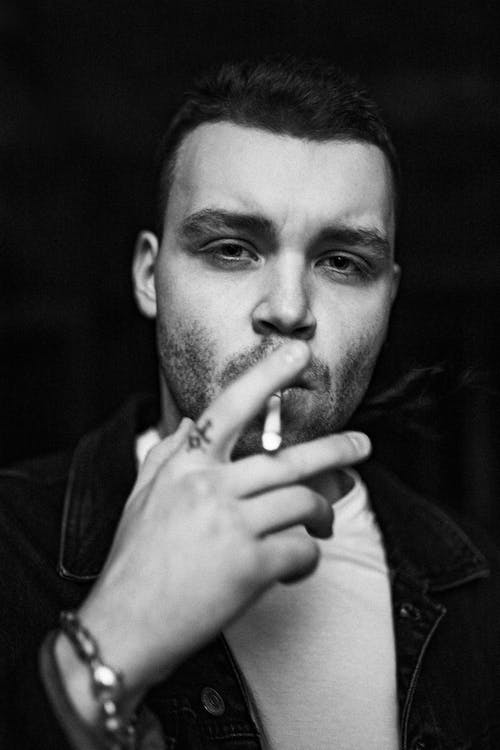cigarette: (259, 386, 286, 456)
